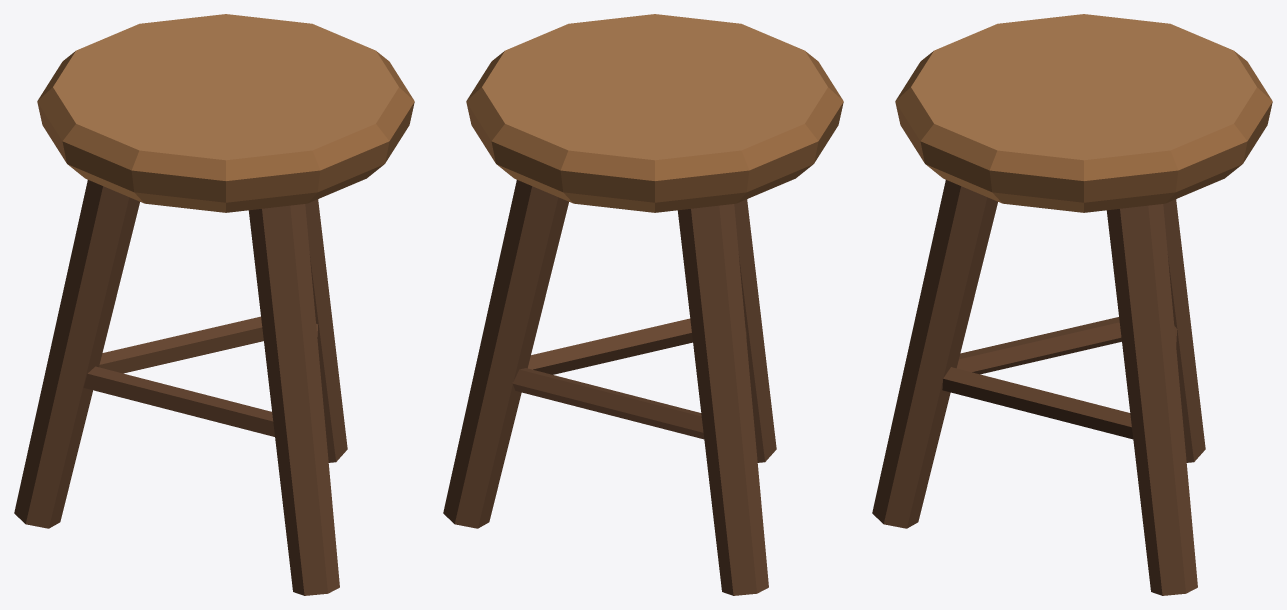
Rendered from stool.glb.
The picture shows the model from 3 angles, left to right: view 1: azimuth 30°, elevation 25°; view 2: azimuth 150°, elevation 25°; view 3: azimuth 270°, elevation 25°; orthographic projection.
Visible parts, largest first — view 1: Wood, Frame; view 2: Wood, Frame; view 3: Wood, Frame.
Part boxes in pixels (x1,y1,x2,y2): Wood: (37,14,414,212); Frame: (14,180,347,595); Wood: (466,14,843,212); Frame: (443,180,776,595); Wood: (895,14,1272,212); Frame: (872,180,1205,595).
Bounding box in the file's own units: 1.44 × 1.84 × 1.53.
2 materials, 2 textured.
